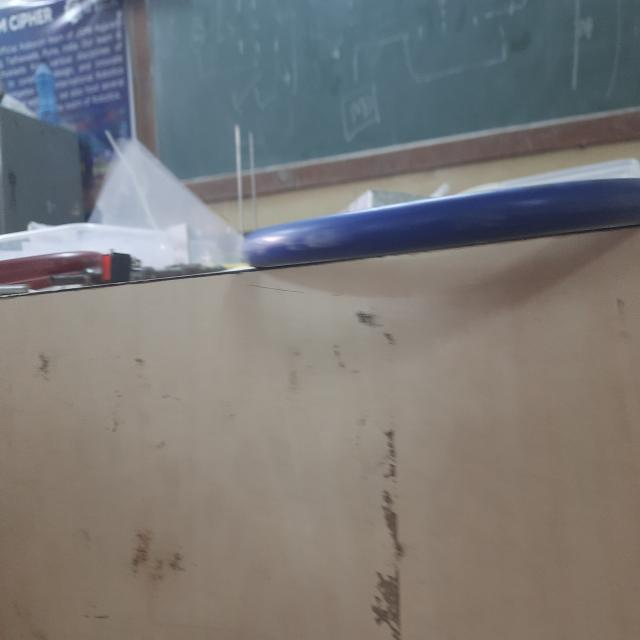daire: (244, 176, 640, 267)
